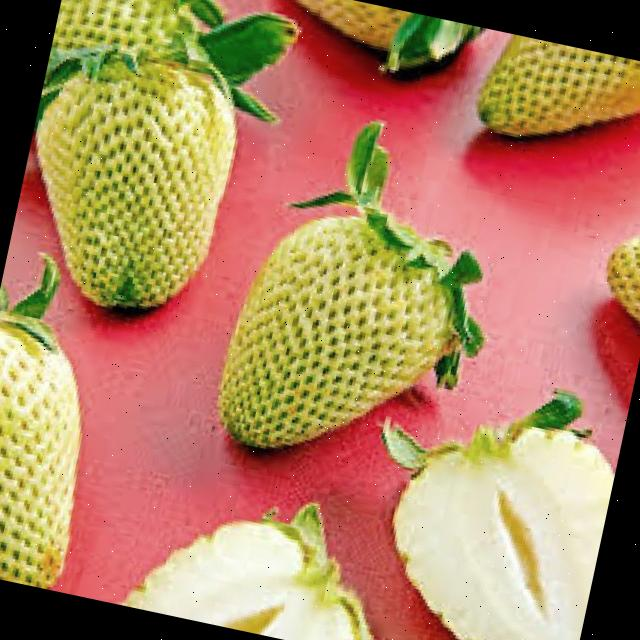strawberry: (208, 197, 471, 484), (6, 41, 246, 326), (0, 298, 112, 591), (468, 29, 640, 171)
